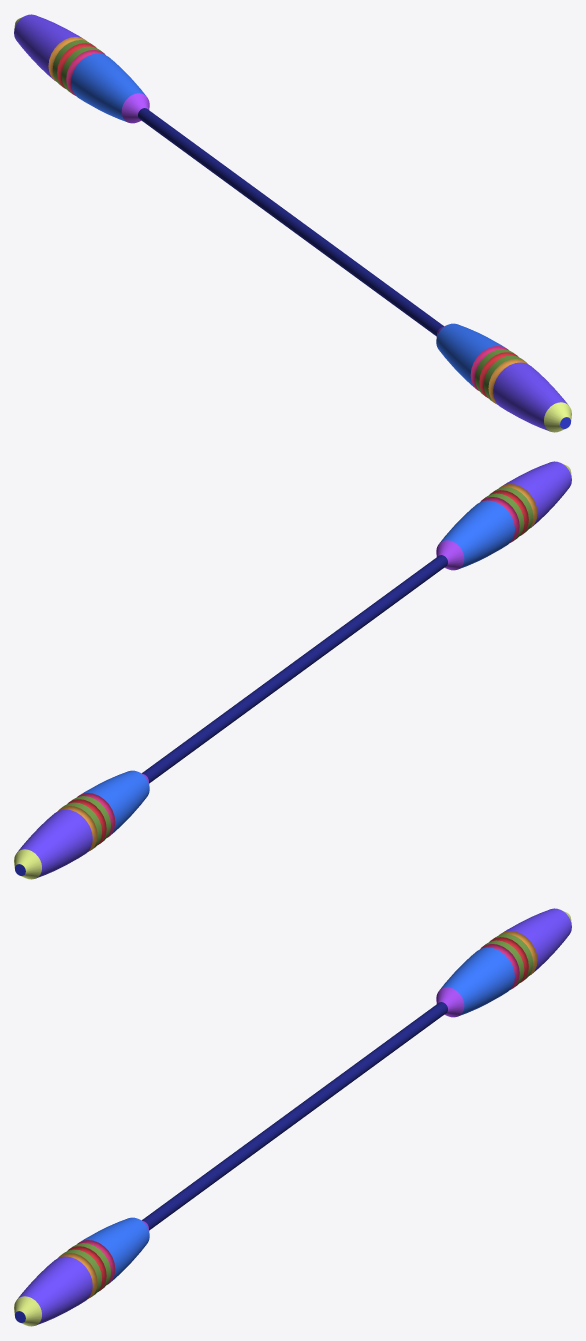
File: iter1barColor.fbx
The picture shows the model from 3 angles, top to bottom: view 1: azimuth 30°, elevation 25°; view 2: azimuth 150°, elevation 25°; view 3: azimuth 330°, elevation 25°; orthographic projection.
Visible parts, largest first — view 1: Model; view 2: Model; view 3: Model.
Part boxes in pixels (<box>): Model: <box>14,14,571,432</box>; Model: <box>14,461,571,879</box>; Model: <box>14,908,571,1326</box>.
Size of the model in its own units: 104 by 104 by 2174.
